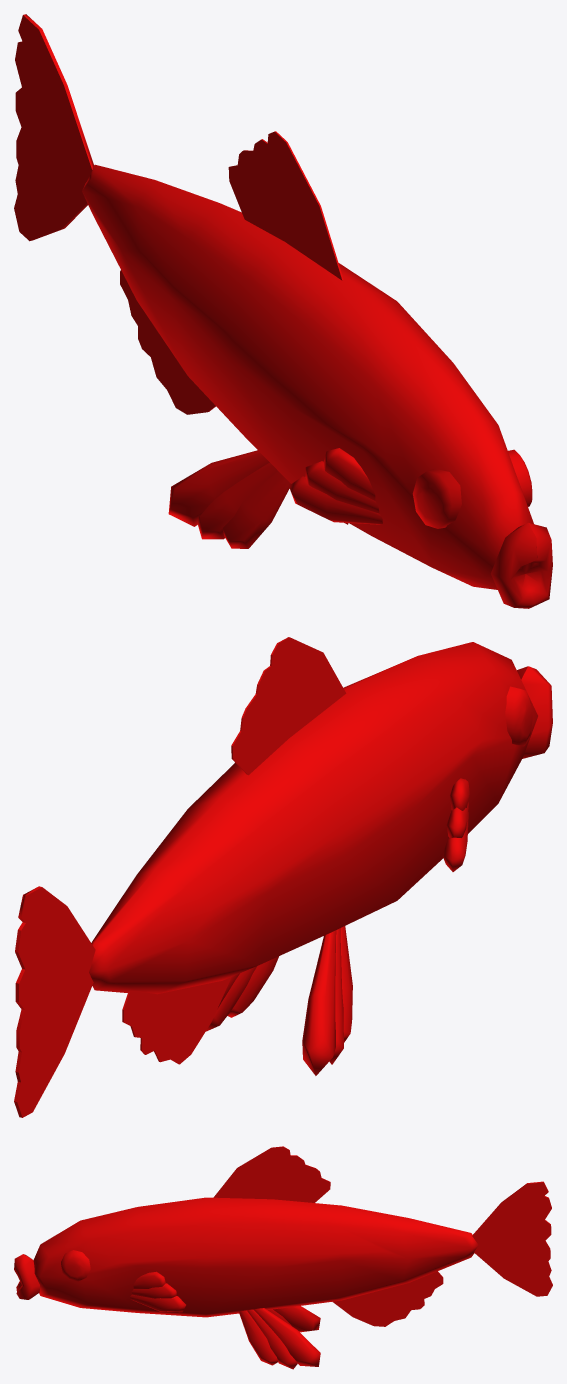
3 renders of one model, top to bottom at view 1: azimuth 30°, elevation 25°; view 2: azimuth 150°, elevation 25°; view 3: azimuth 270°, elevation 25°, orthographic. The views are drawn at different scales.
Parts seen in each view (by area): view 1: Fish_GoldenTrout; view 2: Fish_GoldenTrout; view 3: Fish_GoldenTrout.
Part boxes in pixels (box(x1,y1,x2,y2)): Fish_GoldenTrout: box(14, 14, 552, 608); Fish_GoldenTrout: box(14, 637, 552, 1117); Fish_GoldenTrout: box(14, 1146, 552, 1369).
Size of the model in its own units: 0.1611 by 0.3559 by 0.8428.
